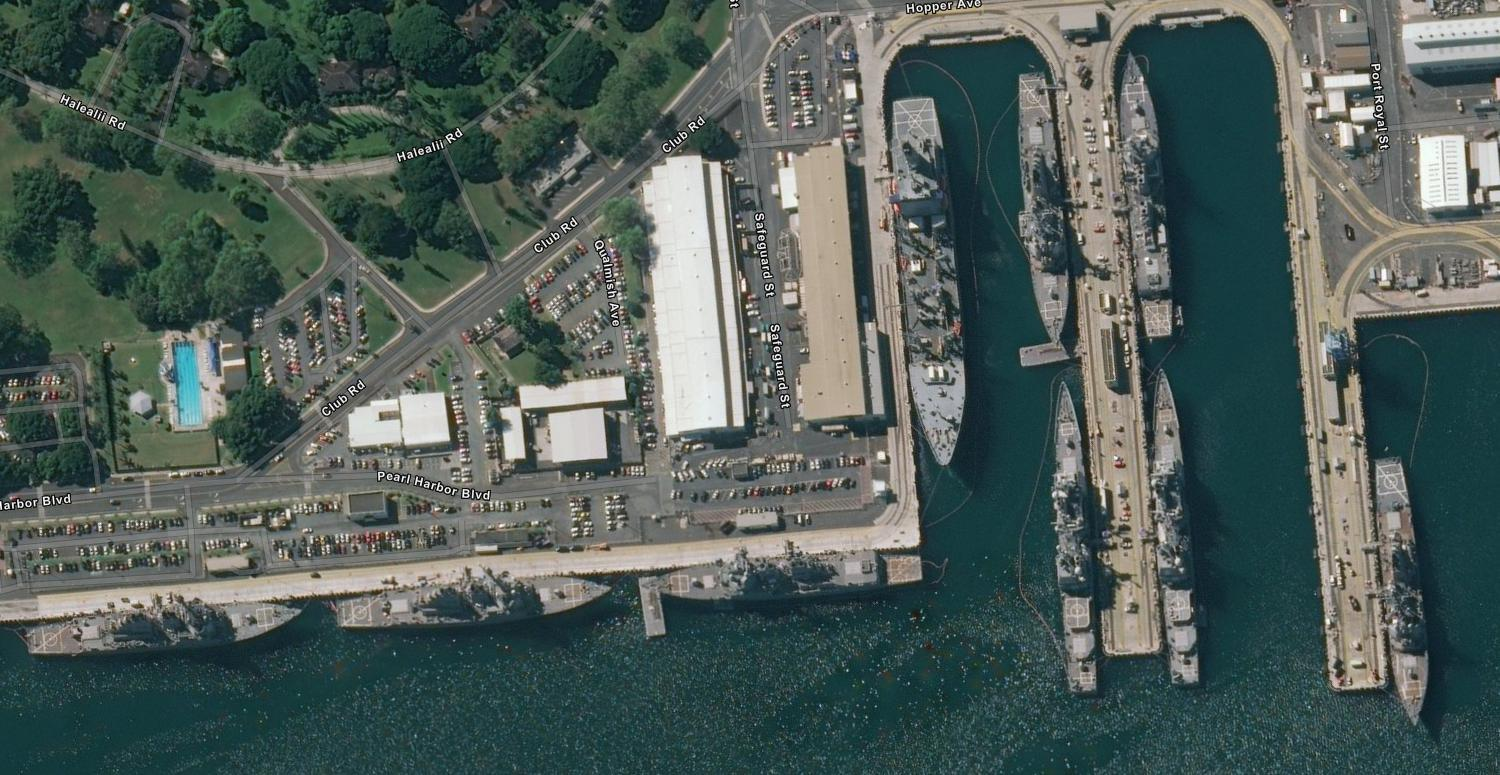cruiser: (1139, 356, 1227, 694), (1043, 371, 1120, 713)
fregate: (323, 567, 623, 648), (12, 587, 311, 665), (641, 532, 939, 606)
